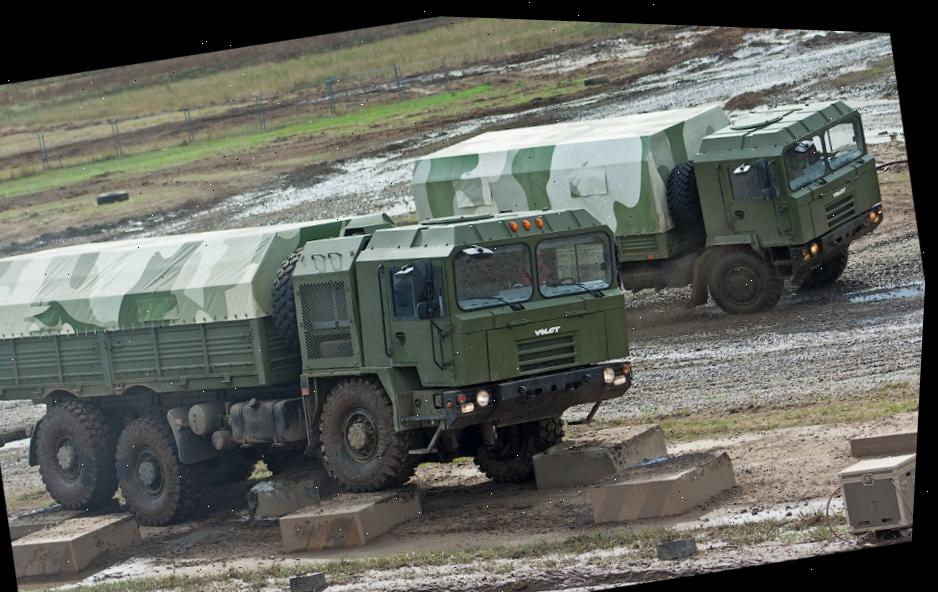truck: (0, 135, 676, 579), (397, 56, 909, 380)
